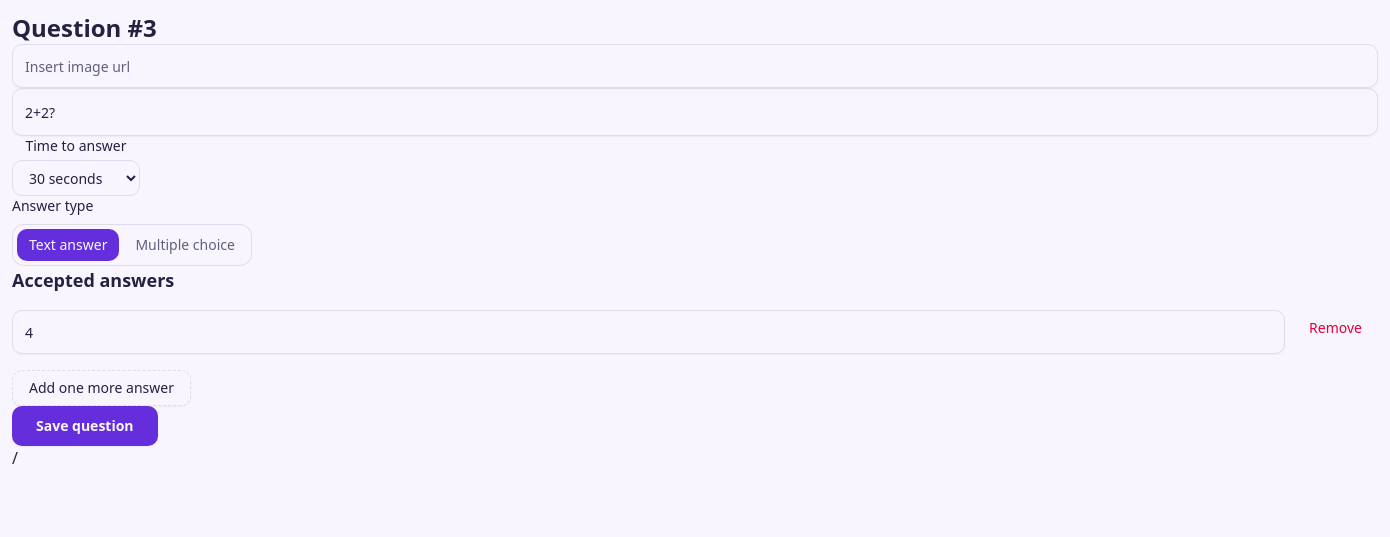
it: EditQuestionForm › asks to confirm a type switch when the other set has data (D-12)
expect the field with test id "question-text-input" holds "2+2?": met, box [12,88,1378,136]
Step 1. Click the button with test id "choice-tab" → coordinates (185, 245), box [123,229,247,261]
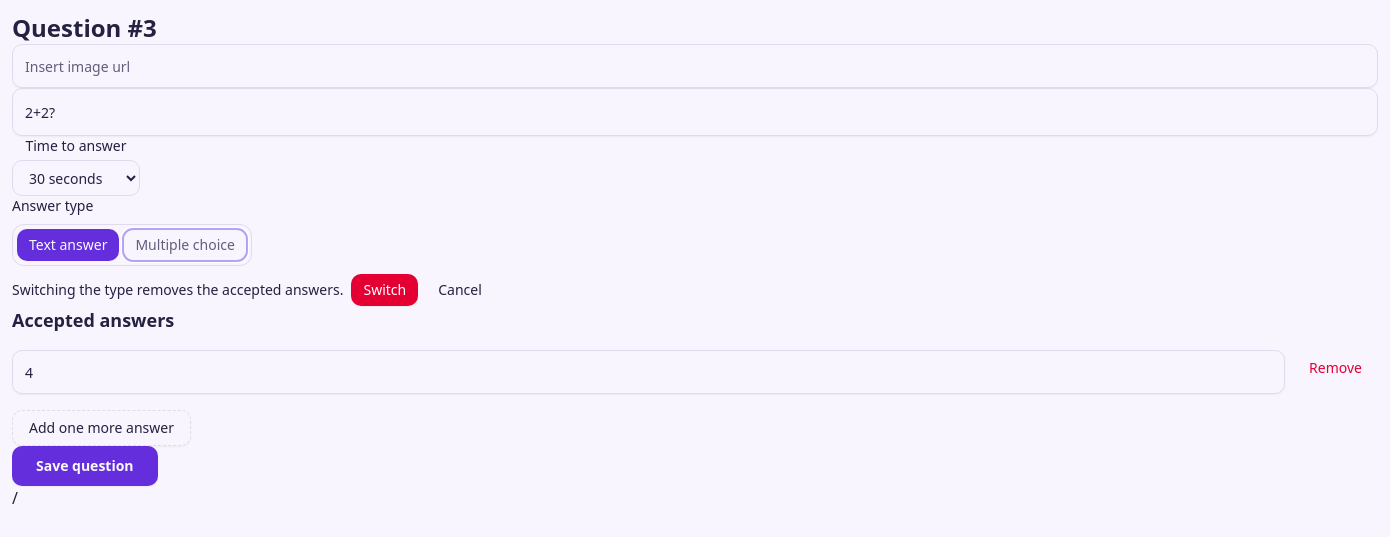
expect the element with test id "type-switch-confirm" is shown: met, box [12,274,494,306]
// cancelling keeps the open form
Step 2. Click the button with test id "cancel-type-switch-button" → coordinates (460, 290), box [426,274,494,306]
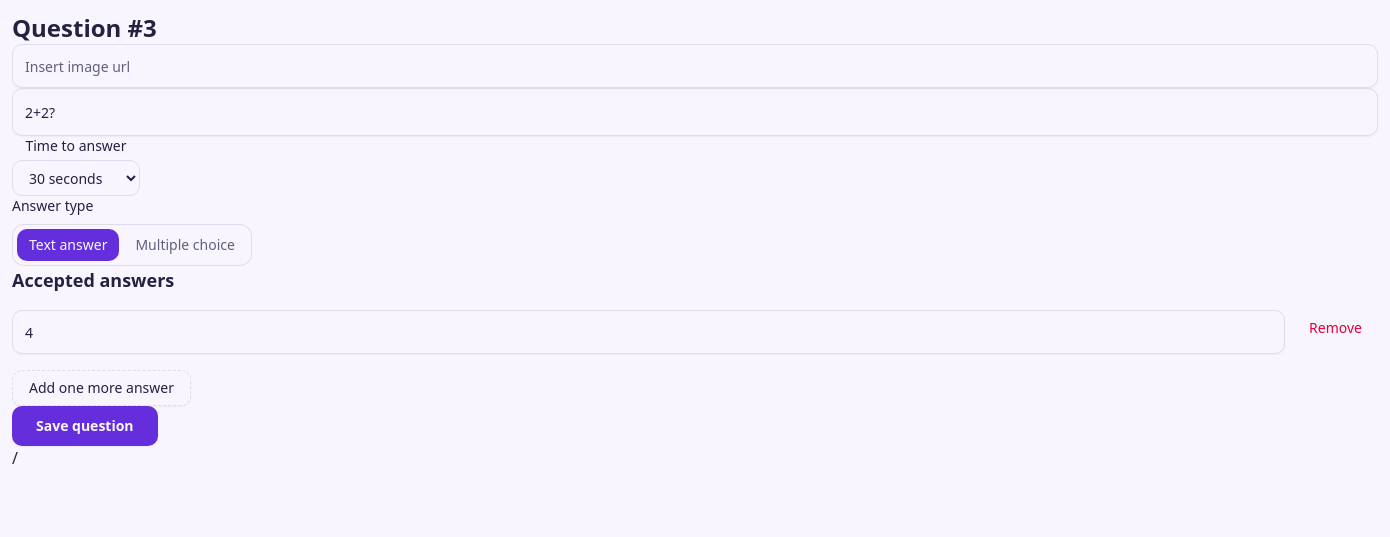
expect the list with test id "accepted-answers-list" is shown: met, box [12,310,1378,354]
// confirming swaps the answers list for the options editor
Step 3. Click the button with test id "choice-tab" → coordinates (185, 245), box [123,229,247,261]
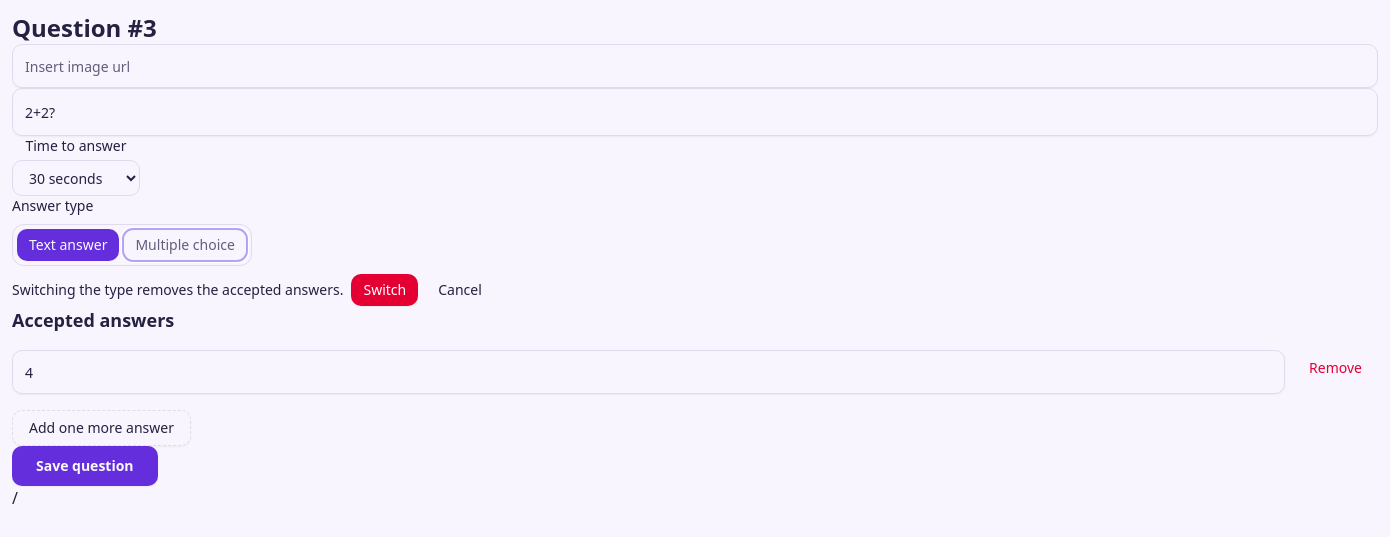
Step 4. Click the button with test id "confirm-type-switch-button" → coordinates (385, 290), box [352,274,418,306]
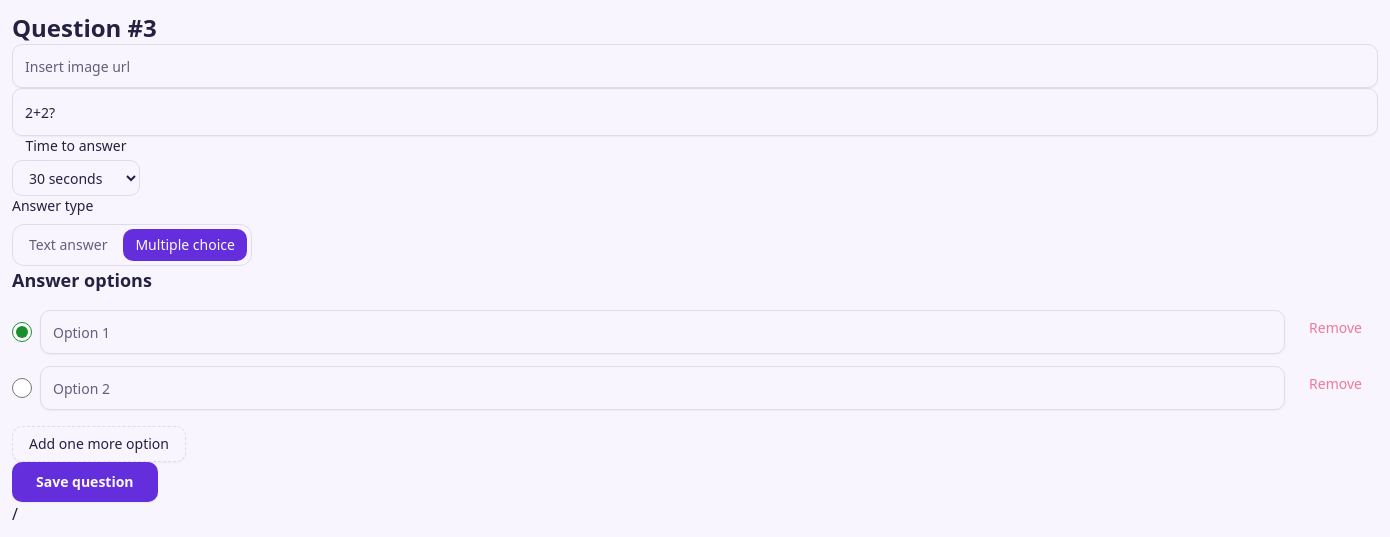
expect the list with test id "answer-options-list" is shown: met, box [12,310,1378,410]
